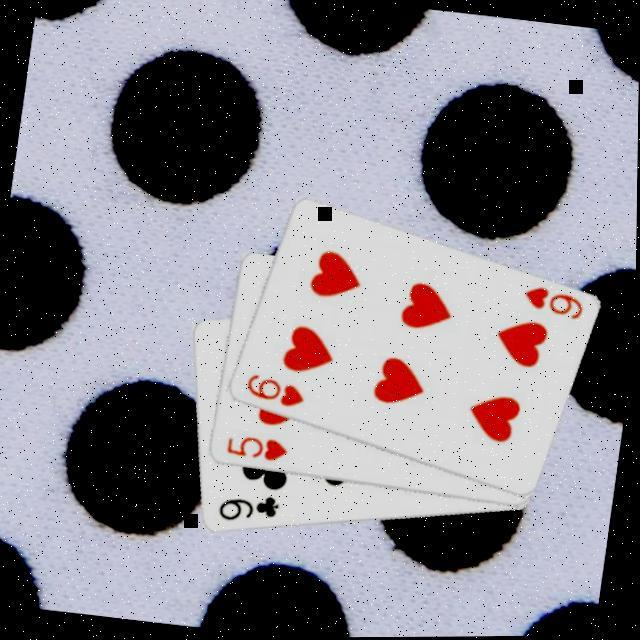5H: (225, 428, 294, 464)
6H: (242, 367, 313, 411), (520, 280, 591, 324)
9C: (216, 486, 286, 528)
